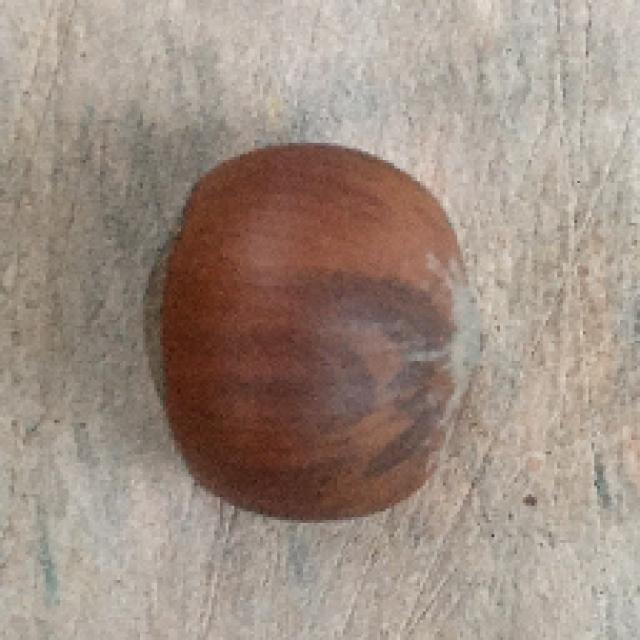qualityHazelnut: (137, 143, 476, 536)
